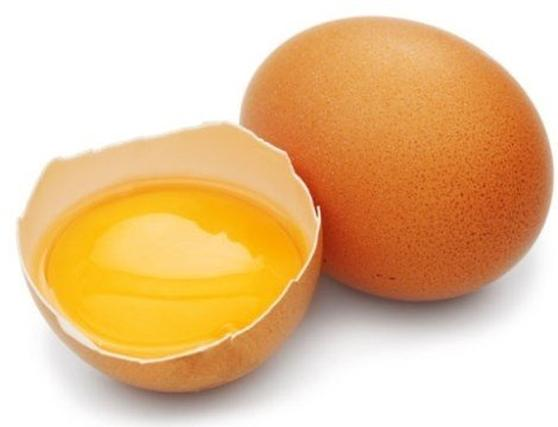egg: (242, 18, 556, 307)
